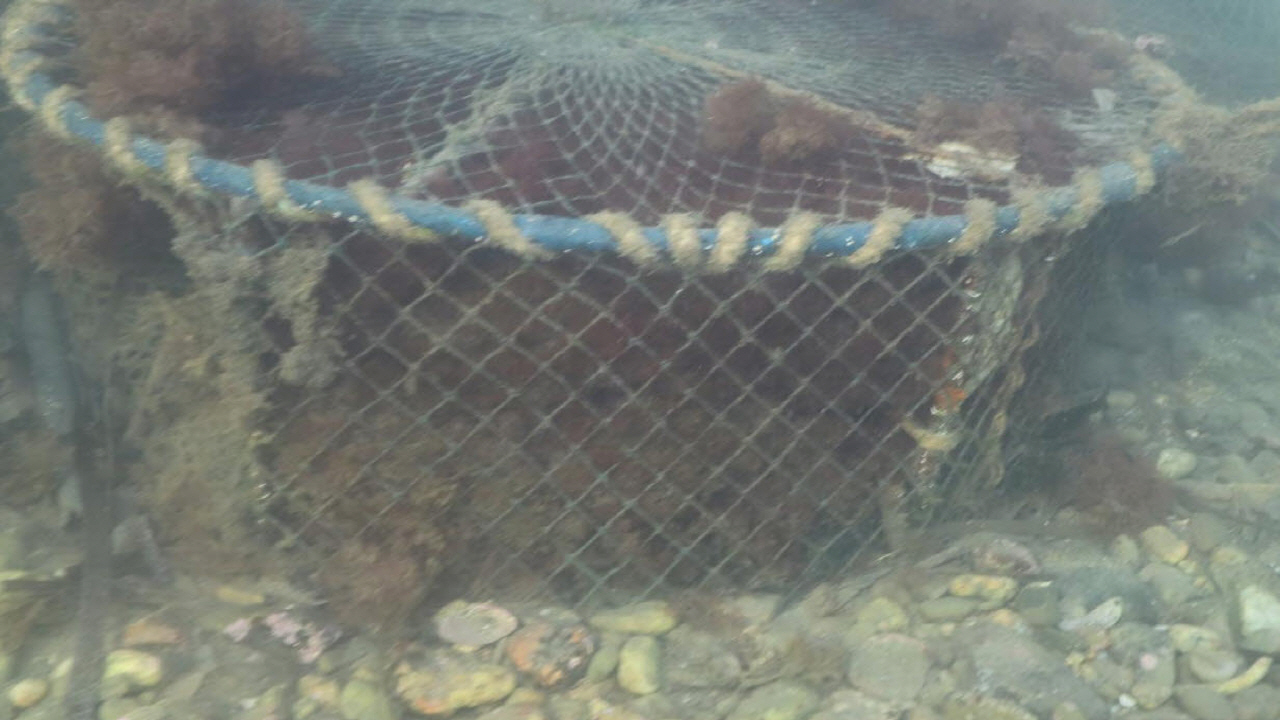circular fish trap: (0, 0, 1193, 613)
